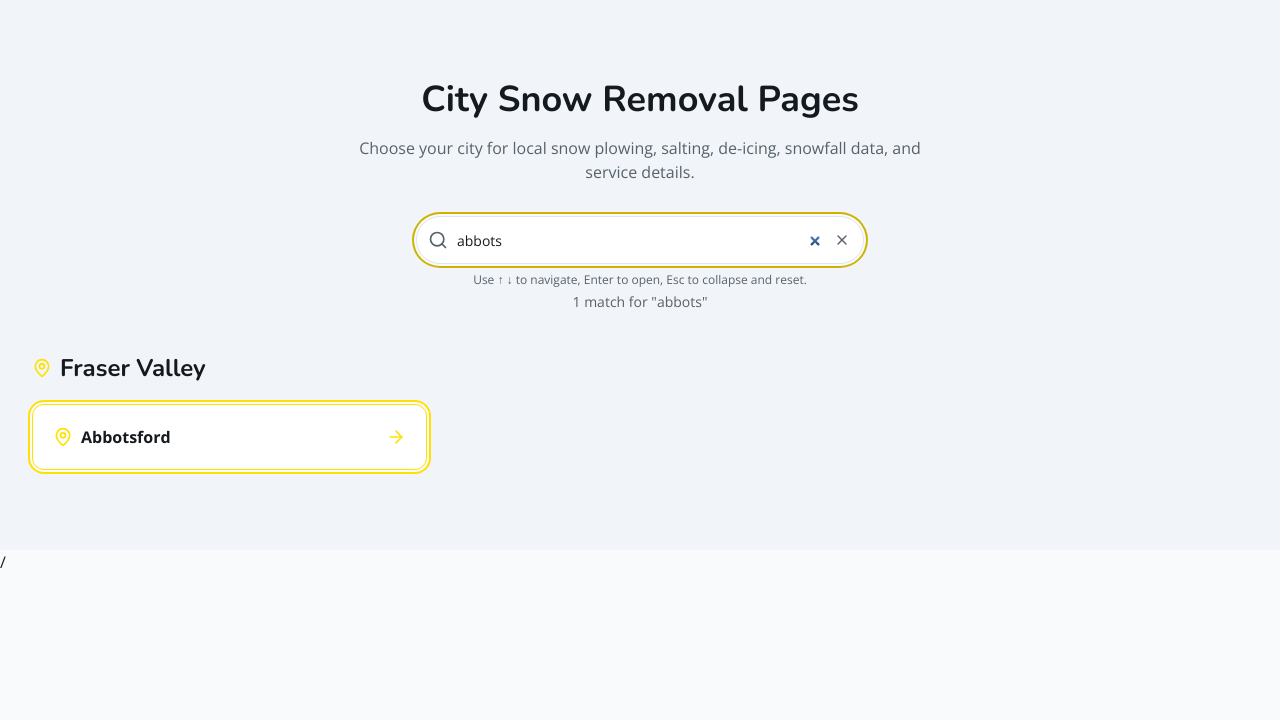
Test case: ServiceAreas Enter/Space selection › ArrowDown/ArrowUp from a closed listbox reopens it and keeps aria-expanded + aria-activedescendant in sync
This screenshot has width=1280, height=720.
Earlier steps of the test are not shown.
Step 1. Click the button named "clear search" → (842, 240), box [828,226,856,254]
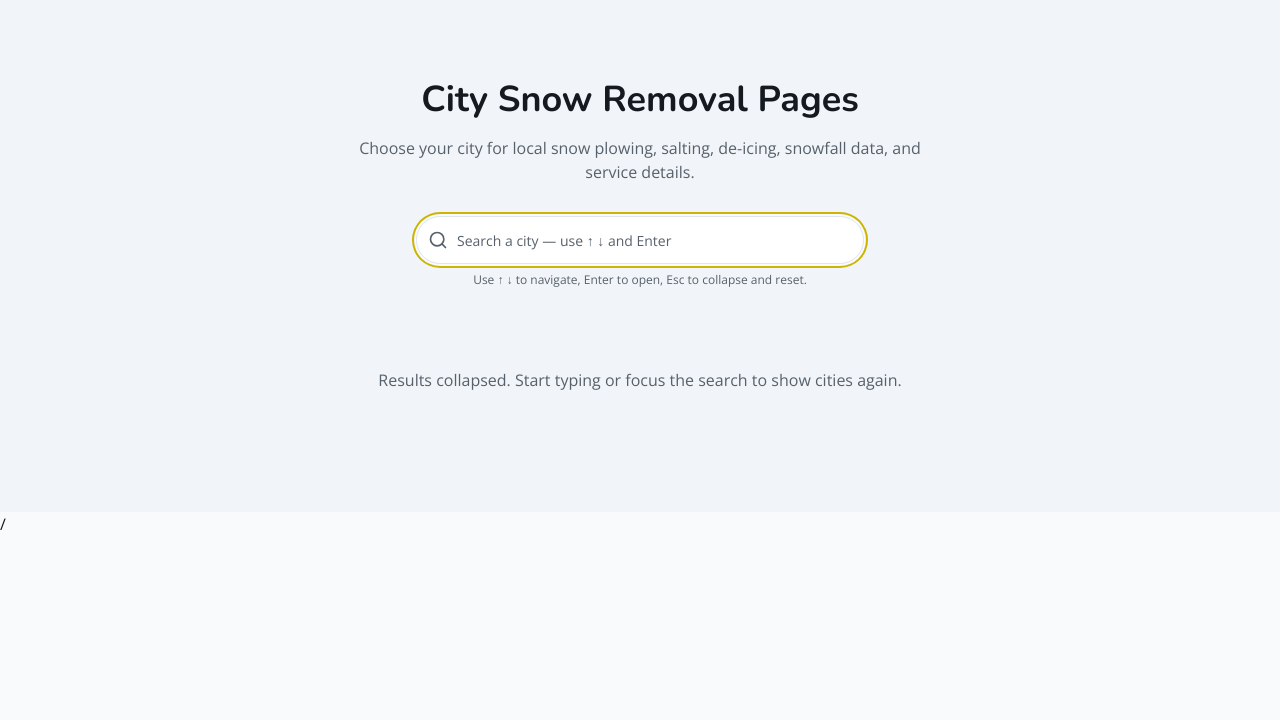
Check: the list is gone
Check: the dropdown is collapsed
# ArrowDown on the combobox: reopens the listbox AND advances active.
Step 2. Press ArrowDown in the dropdown, box [416,216,864,264]
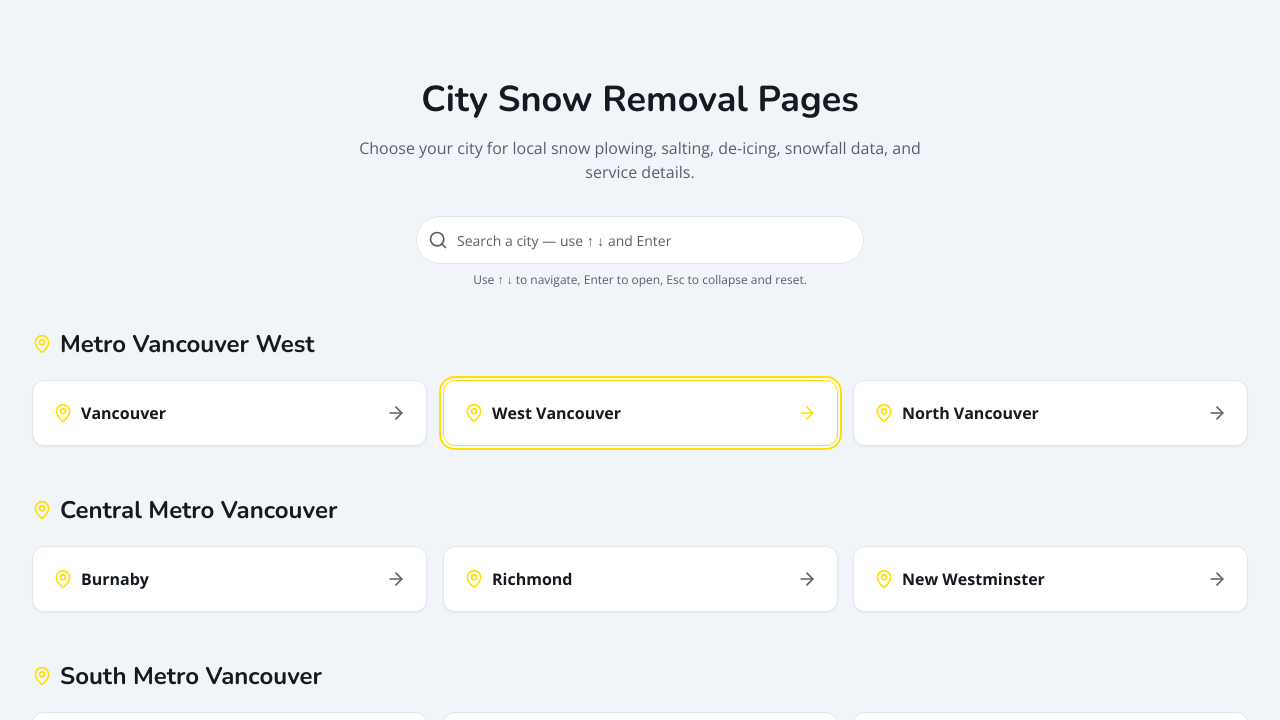
Check: the list "Vancouver West Vancouver North Vancouver" is shown, box [32,380,1248,446]
Check: the dropdown is expanded
# ArrowDown again → North Vancouver.
Step 3. Press ArrowDown in the dropdown, box [416,216,864,264]
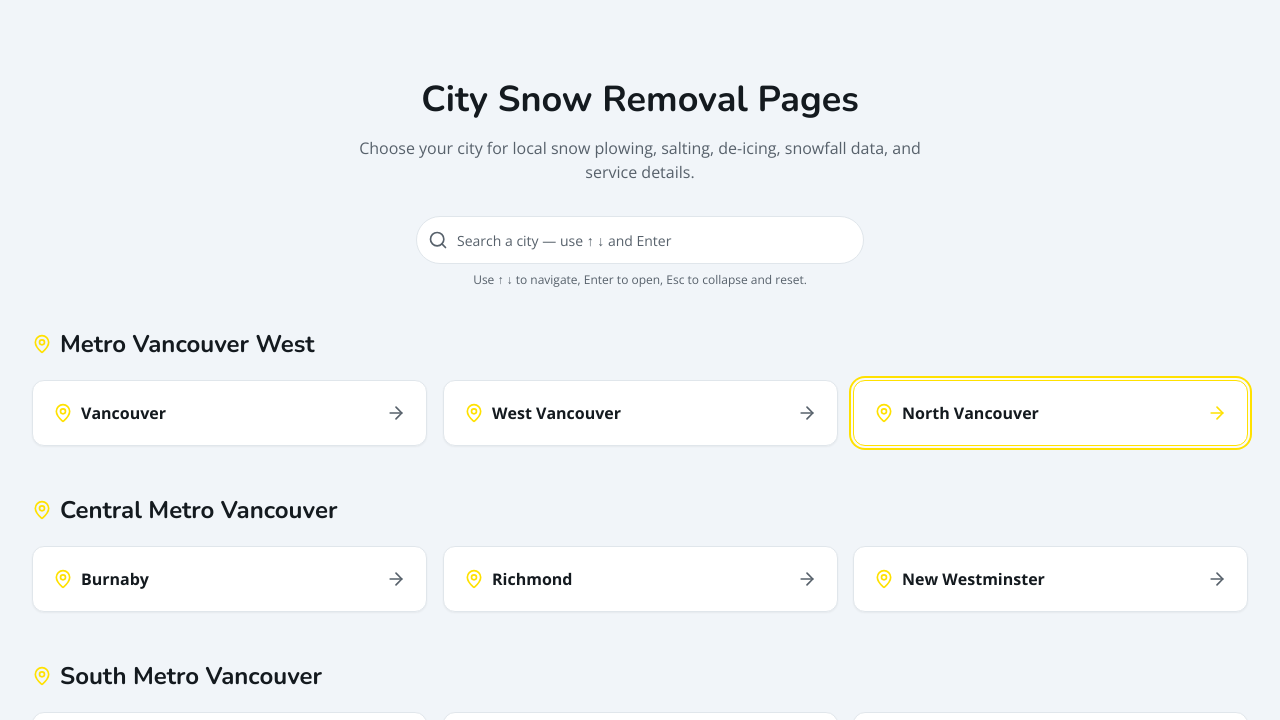
Check: the dropdown is expanded
# ArrowUp → back to West Vancouver, expanded stays true.
Step 4. Press ArrowUp in the dropdown, box [416,216,864,264]
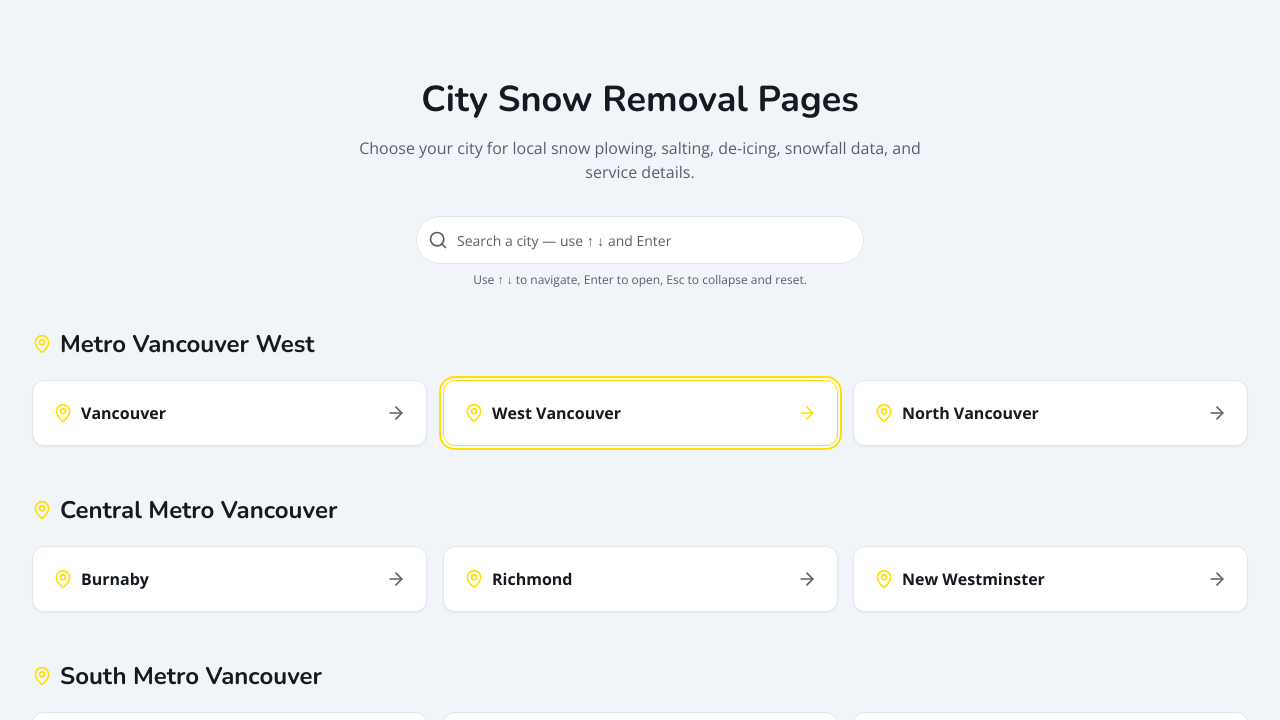
Check: the dropdown is expanded, box [416,216,864,264]
# Now collapse again to verify ArrowUp also reopens.
Step 5. Press Escape in the option with id "city-opt-west-vancouver", box [443,380,837,446]
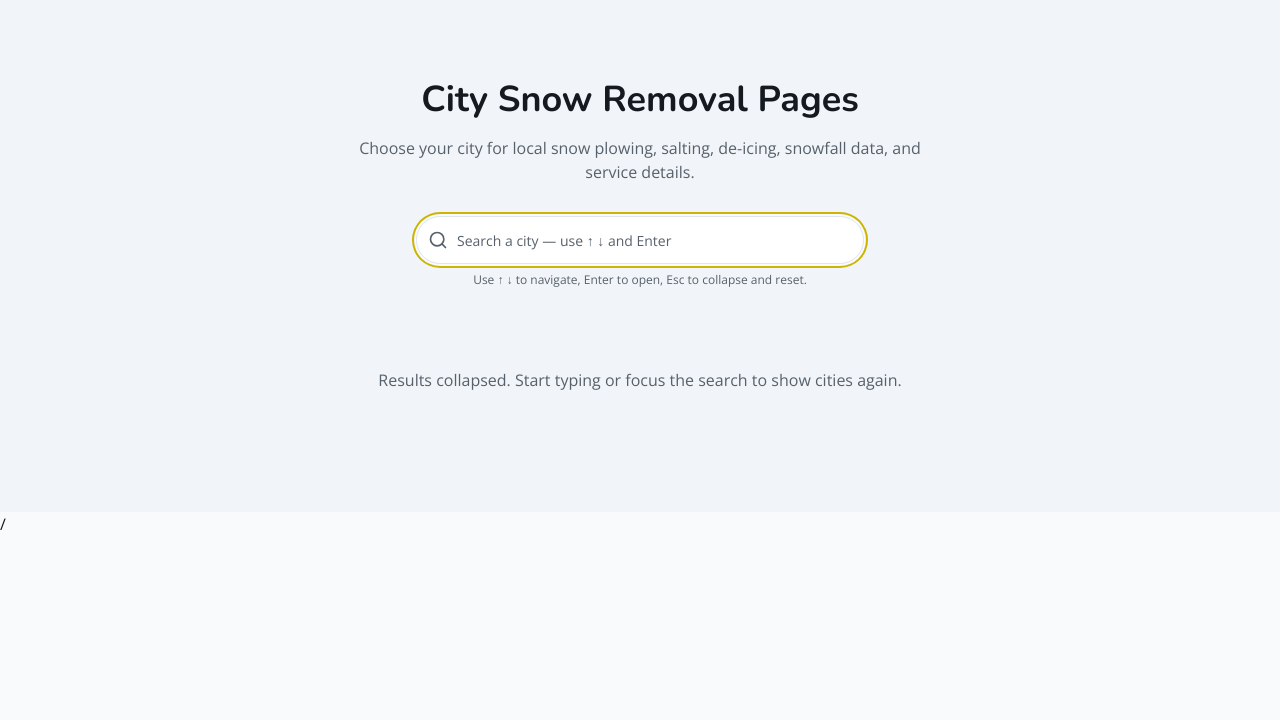
Check: the list is gone
Check: the dropdown is collapsed
Step 6. Press ArrowUp in the dropdown, box [416,216,864,264]
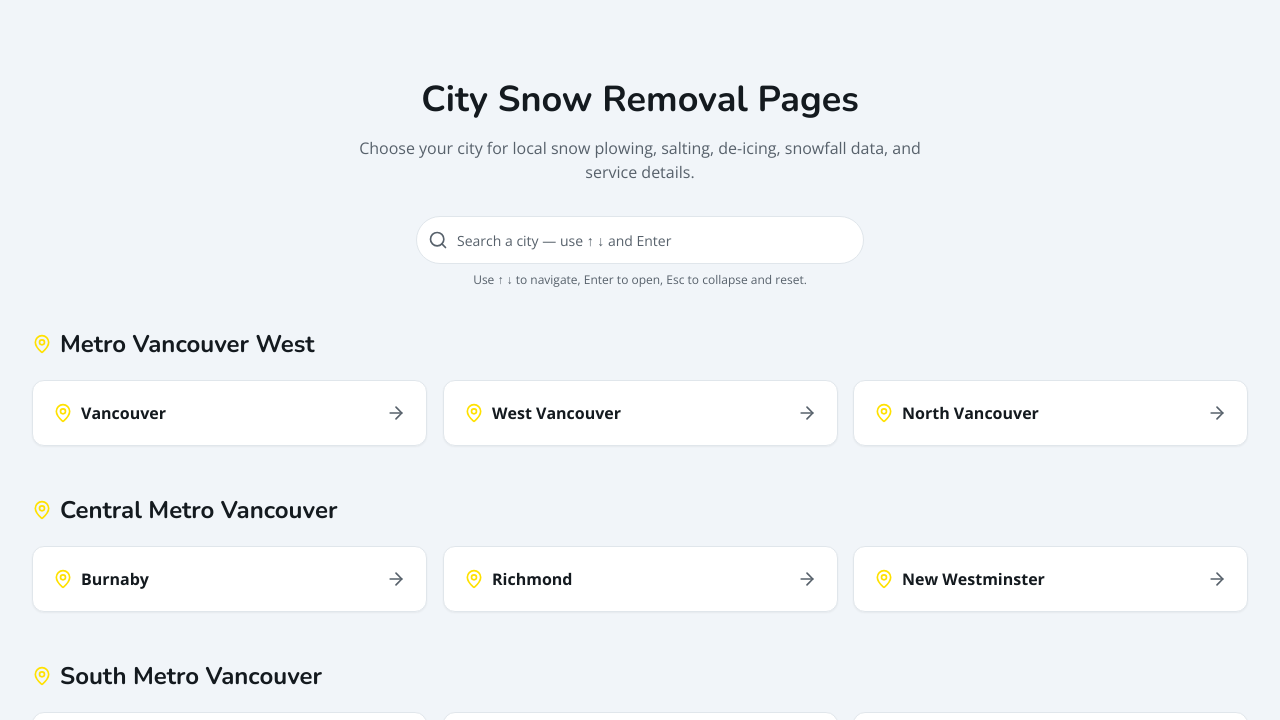
Check: the list "Vancouver West Vancouver North Vancouver" is shown, box [32,380,1248,446]
Check: the dropdown is expanded, box [416,216,864,264]
